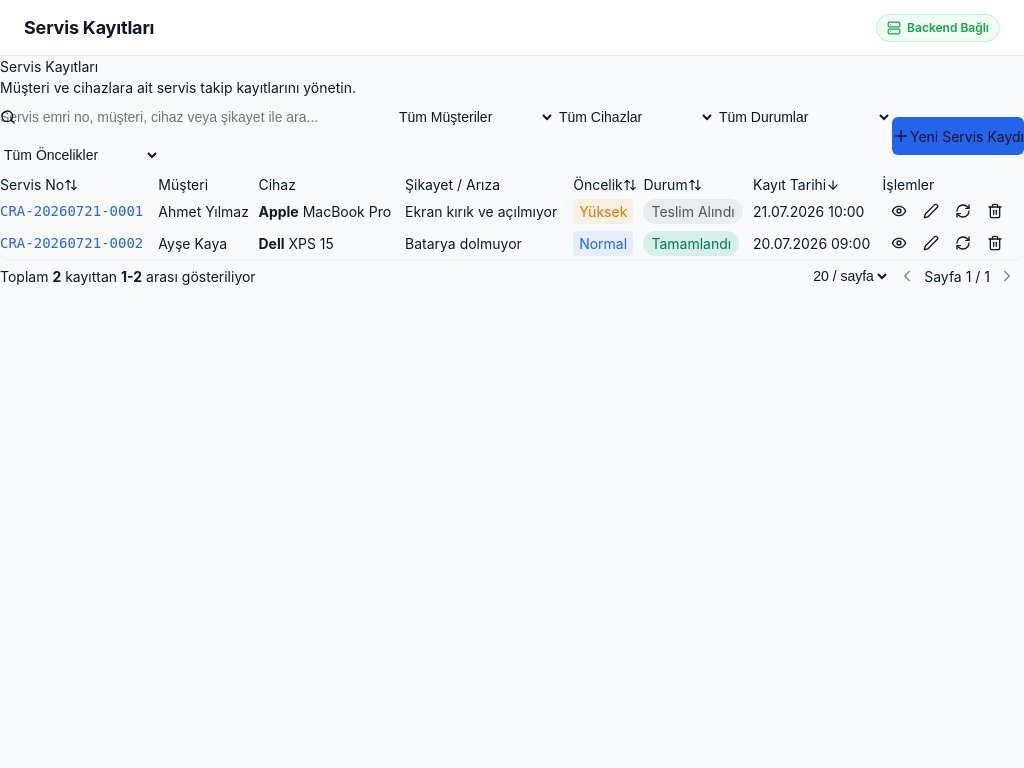
Test case: RepairOrdersPage Integration › opens delete dialog and prevents deleting order in COMPLETED status
Expected: the text "CRA-20260721-0002" is shown, [0,235,143,251]
Click the button named "kaydını sil" at coordinates (994, 243), box [978,227,1010,259]
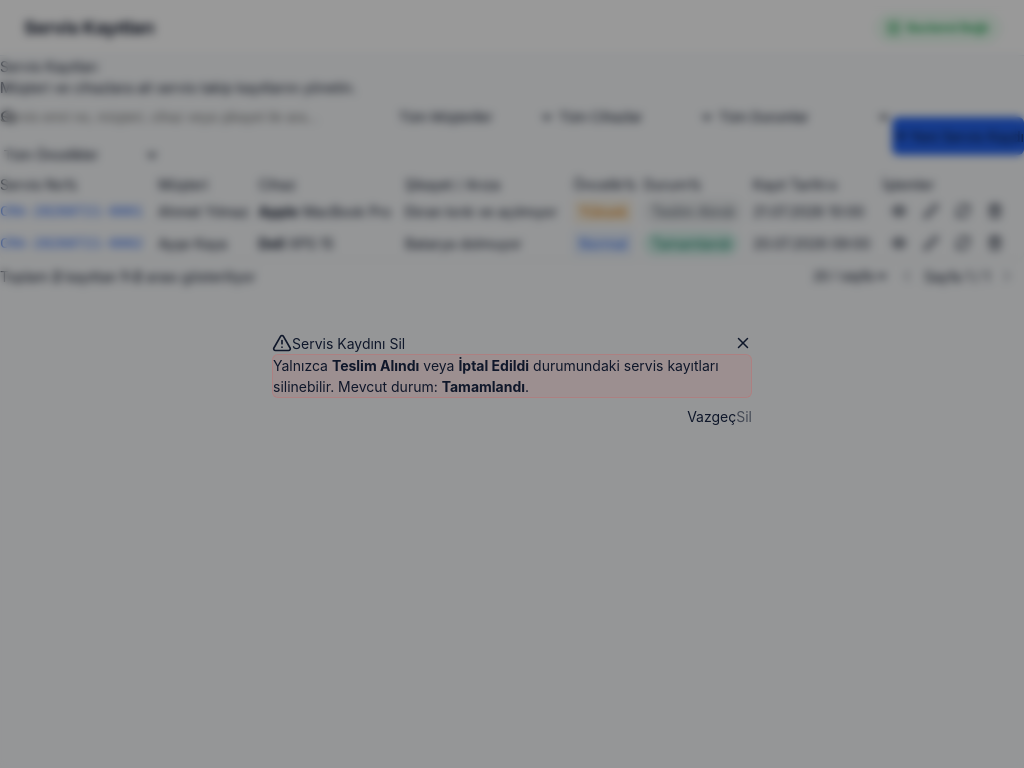
Expected: the dialog "Servis Kaydını Sil" is shown, [272,332,752,436]
Expected: the dialog "Servis Kaydını Sil" shows "durumundaki servis kayıtları silinebilir", [273,356,719,394]
Expected: the button "Sil" is disabled, [736,398,752,436]
